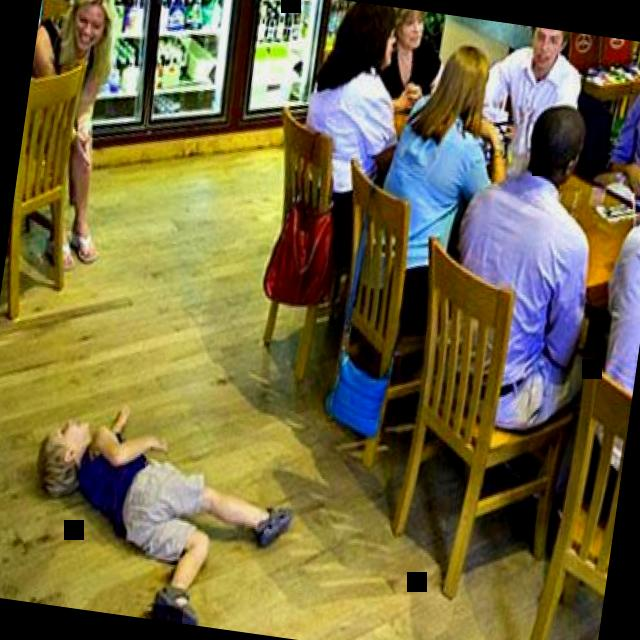Fall-Detected: (7, 364, 315, 638)
